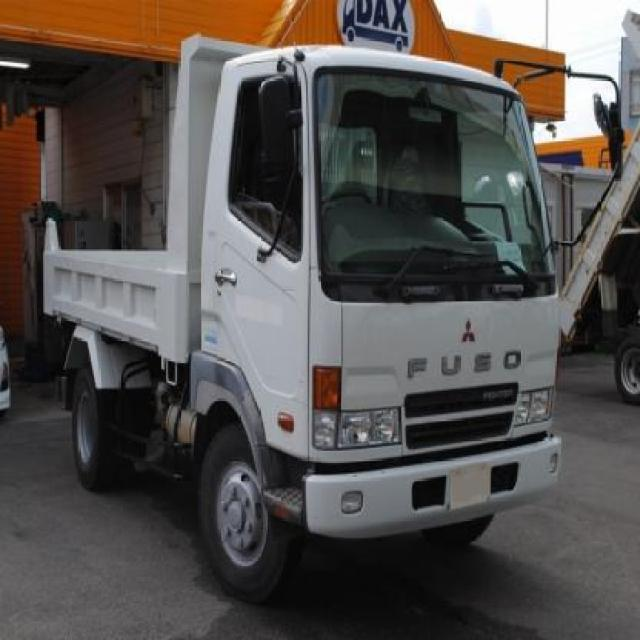truck: (43, 25, 621, 591)
